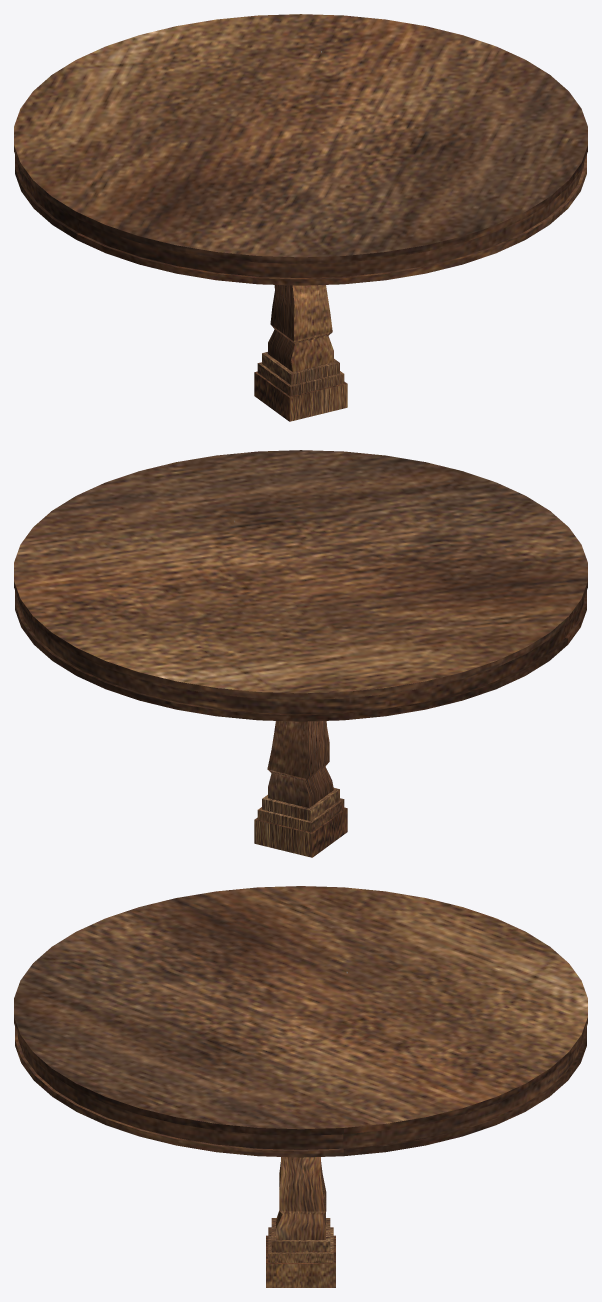
Rendered from MesaC.obj.
3 views of the same model, one above another, from view 1: azimuth 30°, elevation 25°; view 2: azimuth 150°, elevation 25°; view 3: azimuth 270°, elevation 25° (orthographic).
Parts seen in each view (by area): view 1: round_tableOBJ_Mesh; view 2: round_tableOBJ_Mesh; view 3: round_tableOBJ_Mesh.
Part boxes in pixels (x1,y1,x2,y2): round_tableOBJ_Mesh: [14, 14, 587, 421]; round_tableOBJ_Mesh: [14, 450, 587, 857]; round_tableOBJ_Mesh: [14, 886, 587, 1287].
Bounding box in the file's own units: 4 × 2.48 × 3.99.
2 materials, 1 textured.
